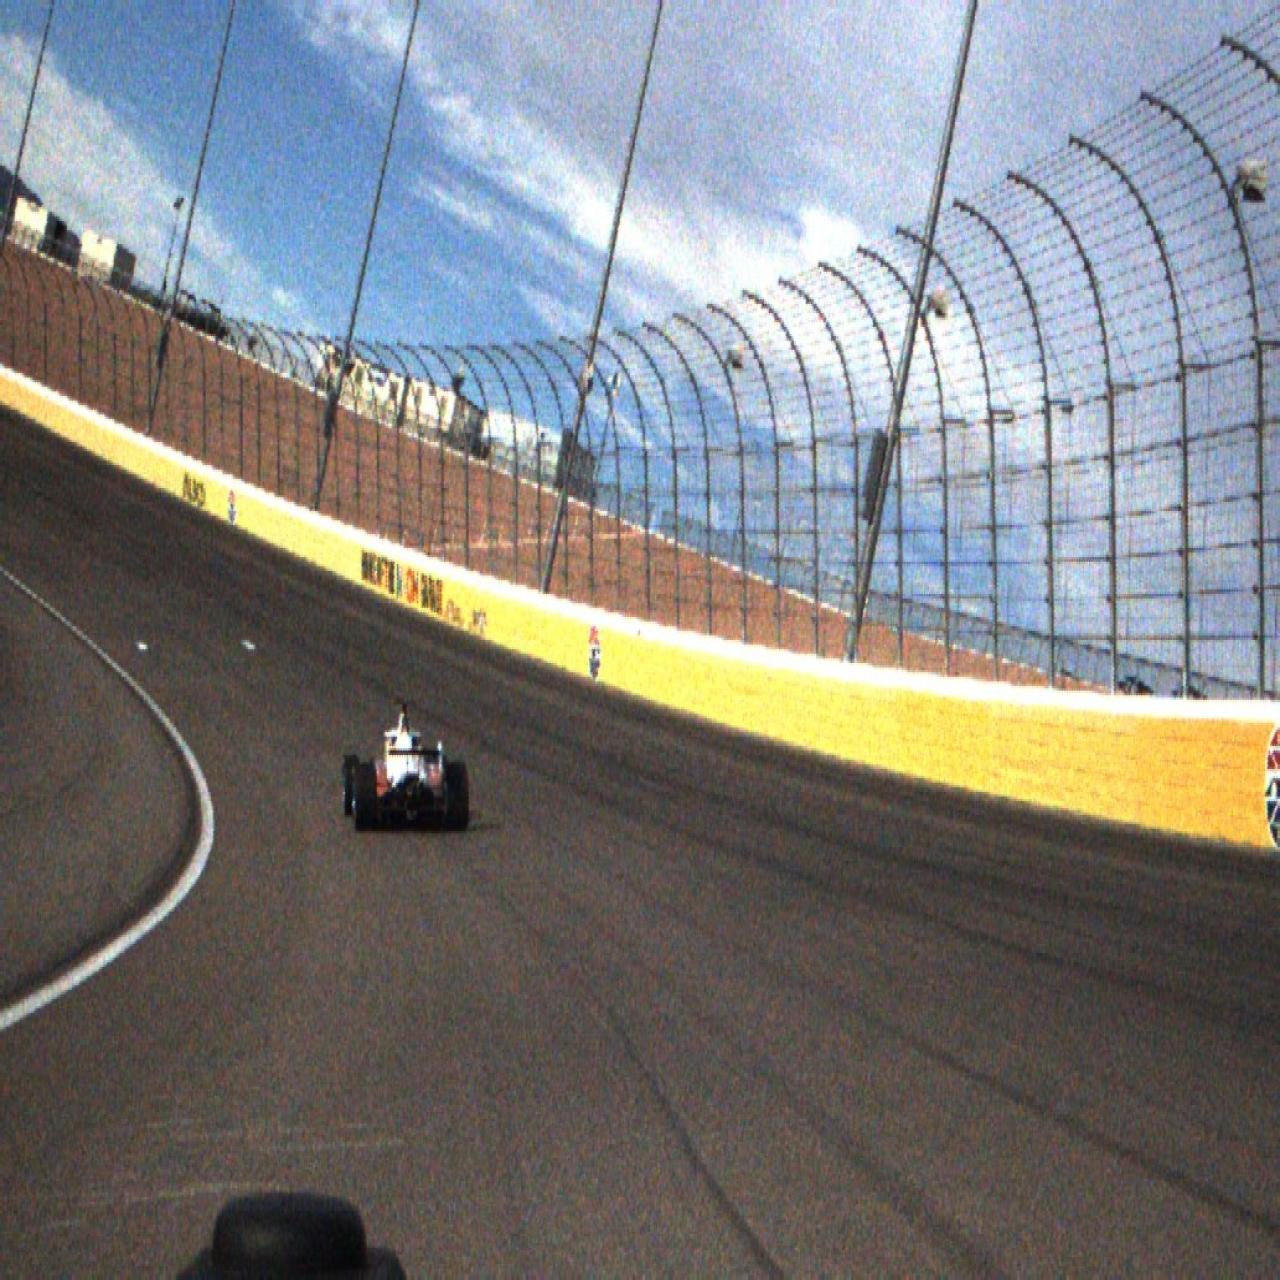AV: (342, 698, 469, 834)
Wheel: (445, 763, 469, 832), (353, 762, 376, 833), (343, 755, 360, 817)
